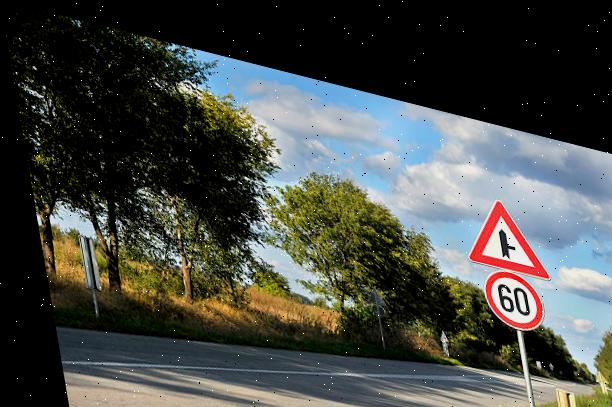Speed Limit -60-: (471, 237, 543, 311)
